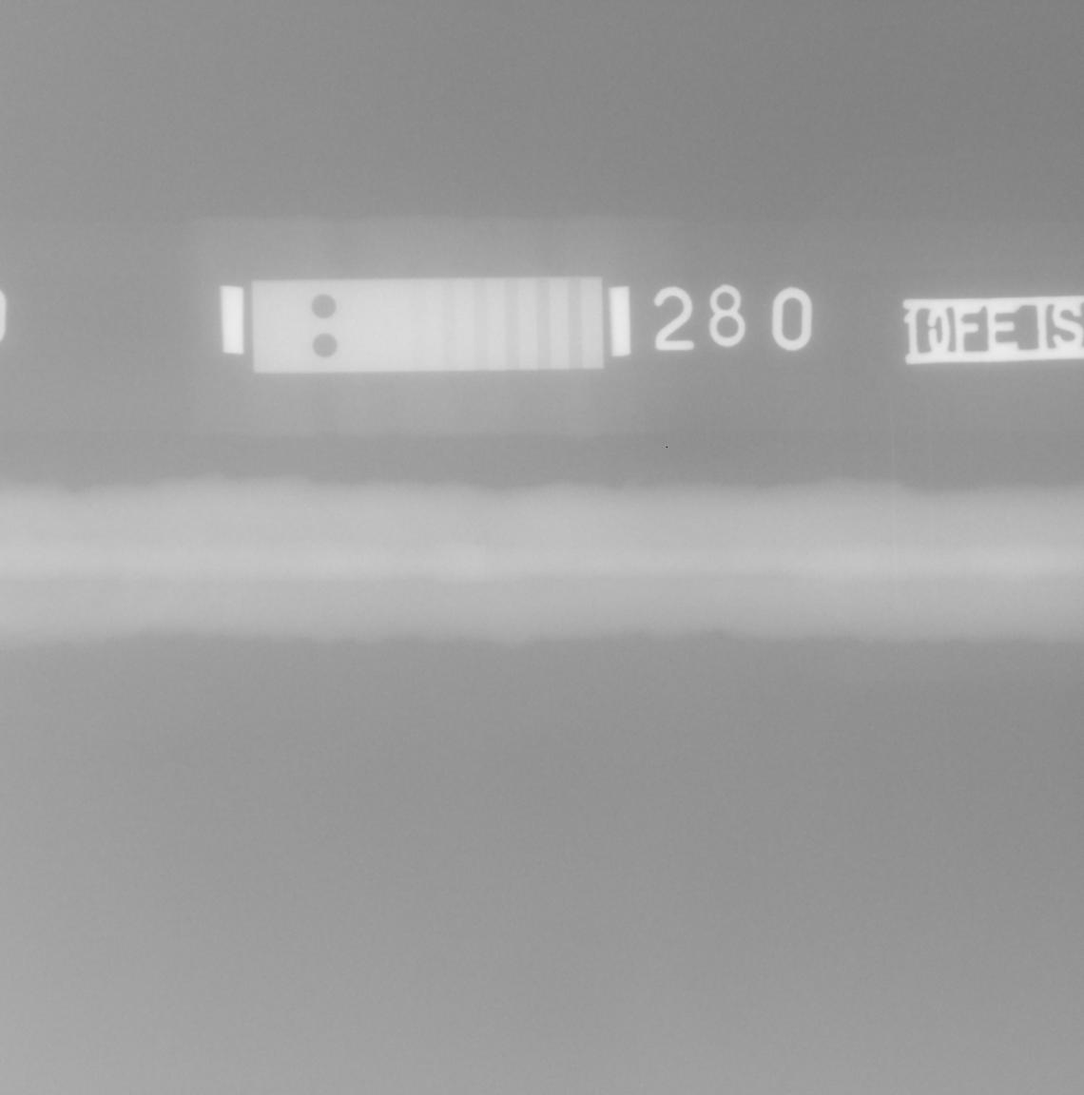Reference Standard 2: (252, 276, 605, 373)
